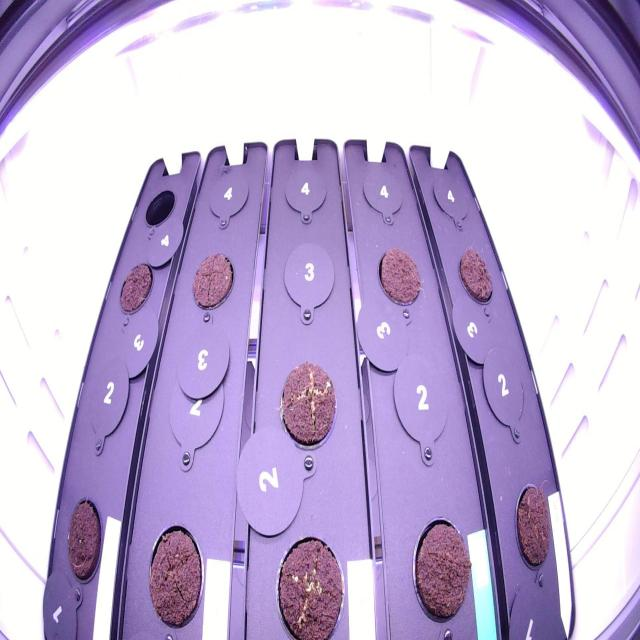empty_pod: (387, 347, 454, 445), (166, 364, 226, 455), (278, 235, 342, 319), (477, 342, 531, 437), (86, 352, 133, 442), (280, 160, 330, 228), (357, 158, 406, 226), (428, 160, 475, 228), (204, 165, 252, 228), (138, 182, 180, 236)
pod: (266, 524, 352, 637), (408, 508, 478, 632), (140, 516, 209, 635), (274, 355, 346, 456), (508, 476, 554, 580), (61, 490, 107, 590), (370, 240, 428, 315), (185, 244, 237, 318), (451, 237, 500, 312), (114, 254, 157, 322)
